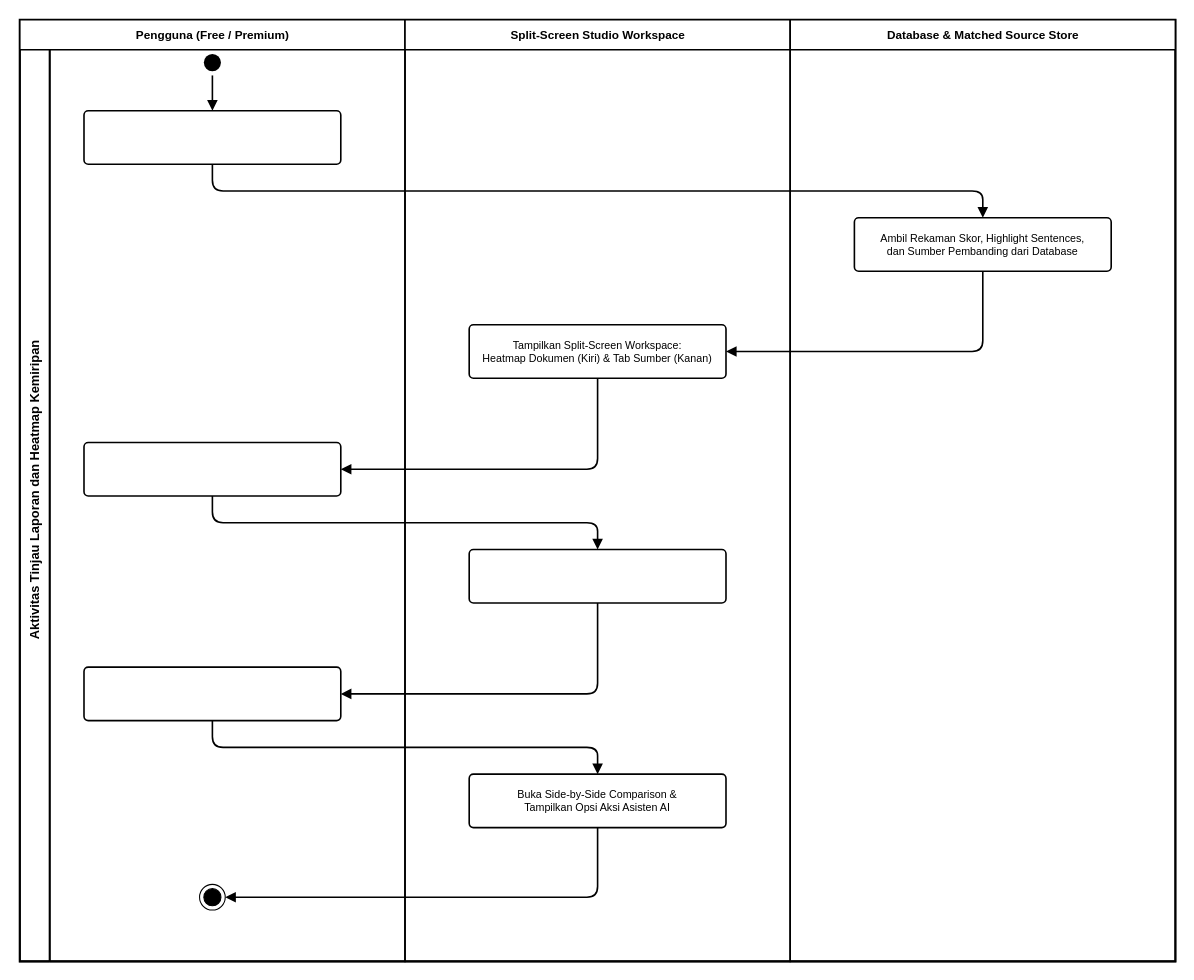
Image size: 1194x980. Some labels were removed from this diagram. The shapes that lost their labels are listed below. From the top down, each one's centre as x and y in pixels, then its label:
At (x=212, y=137): "Buka Laporan Audit Naskah pada Workspace Studio".
At (x=212, y=468): "Pilih Filter Kategori Plagiat (Semua / Merah / Oranye / Kuning)".
At (x=597, y=575): "Perbarui Highlight Sesuai Filter & Fokuskan ke Kalimat Bermasalah".
At (x=212, y=693): "Klik Kalimat yang Disorot untuk Melihat Sumber Berdampingan".
